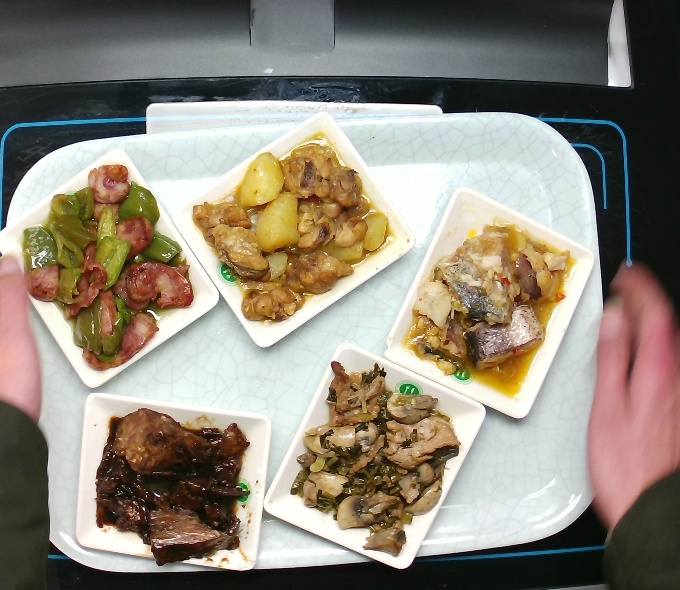wcq-JiangZhiYa: (92, 406, 251, 569)
wcq-MoGuRouPian: (288, 357, 462, 559)
wcq-QingJiaoXiangChang: (20, 163, 194, 372)
wcq-SuanCaiYu: (405, 222, 578, 399)
wcq-TuDouJiKuai: (191, 128, 394, 325)
